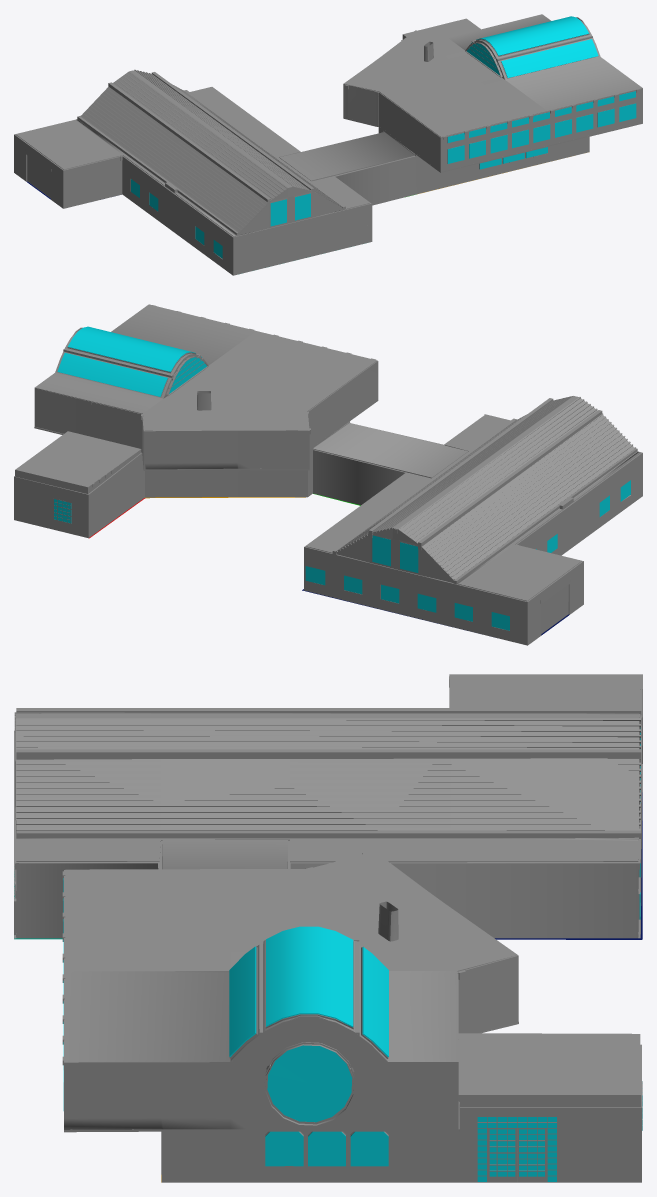
File: BlockoutHouse_10.FBX
3 views of the same model, one above another, from view 1: azimuth 30°, elevation 25°; view 2: azimuth 150°, elevation 25°; view 3: azimuth 270°, elevation 25° (orthographic). The views are drawn at different scales.
Visible parts, largest first — view 1: WorkshopRoof, walls1, Object002, Workshop supports 2, Glass, Shape001, Shape012, Kitchen Celing, Garadge Door, Box019; view 2: walls1, WorkshopRoof, Object002, Workshop supports 2, Shape001, Glass, Kitchen Celing, Shape012, Garadge Door, Box019, floor; view 3: WorkshopRoof, Object002, Workshop supports 2, walls1, Shape001, Glass, Kitchen Celing, Shape012, Kitchen Door, Box019, Kitchen door Frame, Shape002 (+1 smaller).
Boxes of the visible parts, left/top/right/bottom form: WorkshopRoof: left=15, top=70, right=369, bottom=236; walls1: left=14, top=40, right=642, bottom=275; Object002: left=344, top=14, right=642, bottom=137; Workshop supports 2: left=77, top=69, right=345, bottom=235; Glass: left=131, top=16, right=636, bottom=258; Shape001: left=343, top=17, right=642, bottom=171; Shape012: left=279, top=131, right=415, bottom=181; Kitchen Celing: left=402, top=18, right=480, bottom=39; Garadge Door: left=25, top=150, right=51, bottom=198; Box019: left=375, top=36, right=640, bottom=139; walls1: left=14, top=400, right=642, bottom=645; WorkshopRoof: left=306, top=396, right=640, bottom=601; Object002: left=34, top=304, right=377, bottom=430; Workshop supports 2: left=332, top=396, right=637, bottom=584; Shape001: left=34, top=327, right=378, bottom=469; Glass: left=54, top=326, right=630, bottom=630; Kitchen Celing: left=15, top=431, right=141, bottom=493; Shape012: left=313, top=421, right=467, bottom=478; Garadge Door: left=540, top=578, right=570, bottom=633; Box019: left=63, top=305, right=375, bottom=419; floor: left=89, top=493, right=569, bottom=635; WorkshopRoof: left=15, top=674, right=640, bottom=862; Object002: left=64, top=851, right=516, bottom=1063; Workshop supports 2: left=14, top=708, right=641, bottom=841; walls1: left=14, top=674, right=642, bottom=1182; Shape001: left=64, top=851, right=518, bottom=1129; Glass: left=63, top=727, right=642, bottom=1181; Kitchen Celing: left=458, top=1033, right=641, bottom=1106; Shape012: left=162, top=840, right=287, bottom=869; Kitchen Door: left=487, top=1128, right=546, bottom=1182; Box019: left=62, top=867, right=465, bottom=1069; Kitchen door Frame: left=477, top=1116, right=557, bottom=1182; Shape002: left=264, top=1042, right=355, bottom=1124.
Bounding box in the file's own units: 2821 × 1623 × 565.
